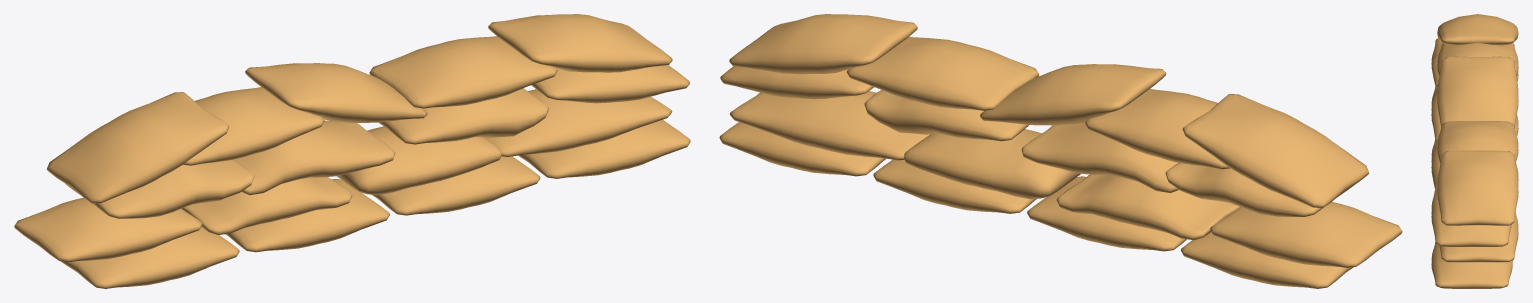
File: Sandbags.fbx
3 renders of one model, left to right at view 1: azimuth 30°, elevation 25°; view 2: azimuth 150°, elevation 25°; view 3: azimuth 270°, elevation 25°, orthographic. The views are drawn at different scales.
Visible parts, largest first — view 1: SandBags; view 2: SandBags; view 3: SandBags.
Part boxes in pixels (x1=…): SandBags: x1=14, y1=14, x2=690, y2=288; SandBags: x1=719, y1=14, x2=1402, y2=288; SandBags: x1=1431, y1=14, x2=1518, y2=288.
Size of the model in its own units: 1041 by 252 by 177.
